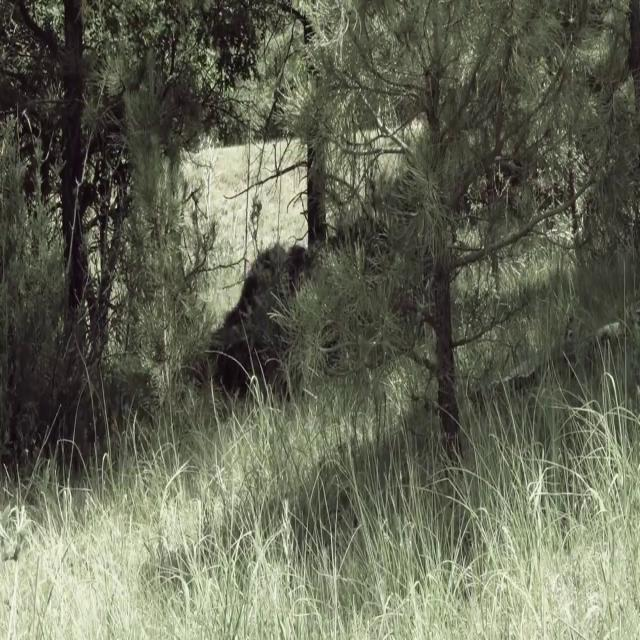Camouflage: (203, 243, 330, 406)
